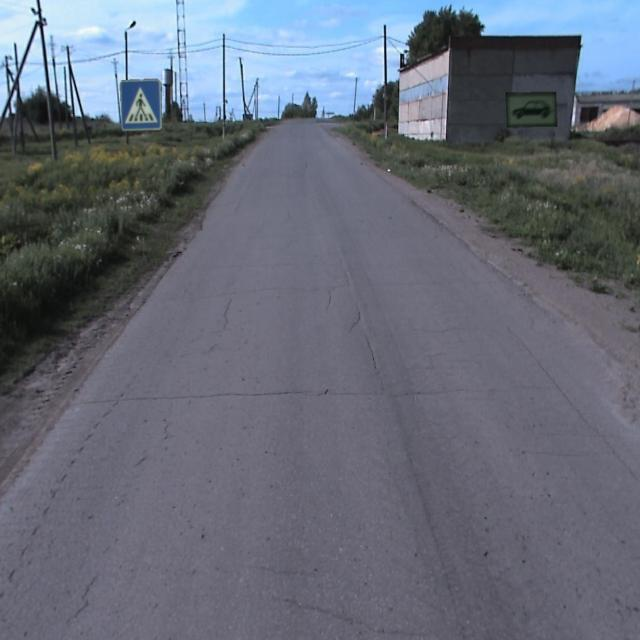road: (0, 118, 639, 639)
